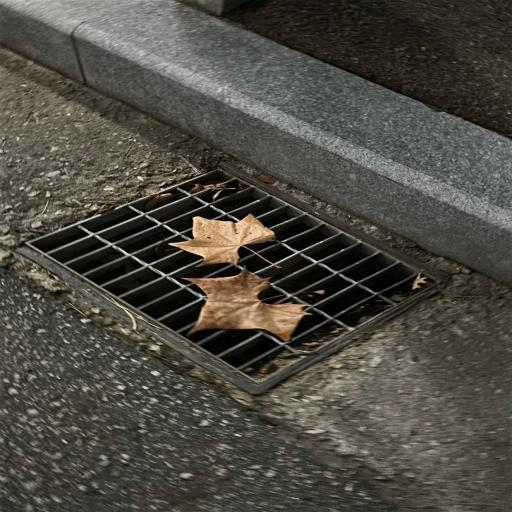debris: (184, 268, 310, 340), (169, 214, 275, 265)
drain: (11, 164, 456, 395)
